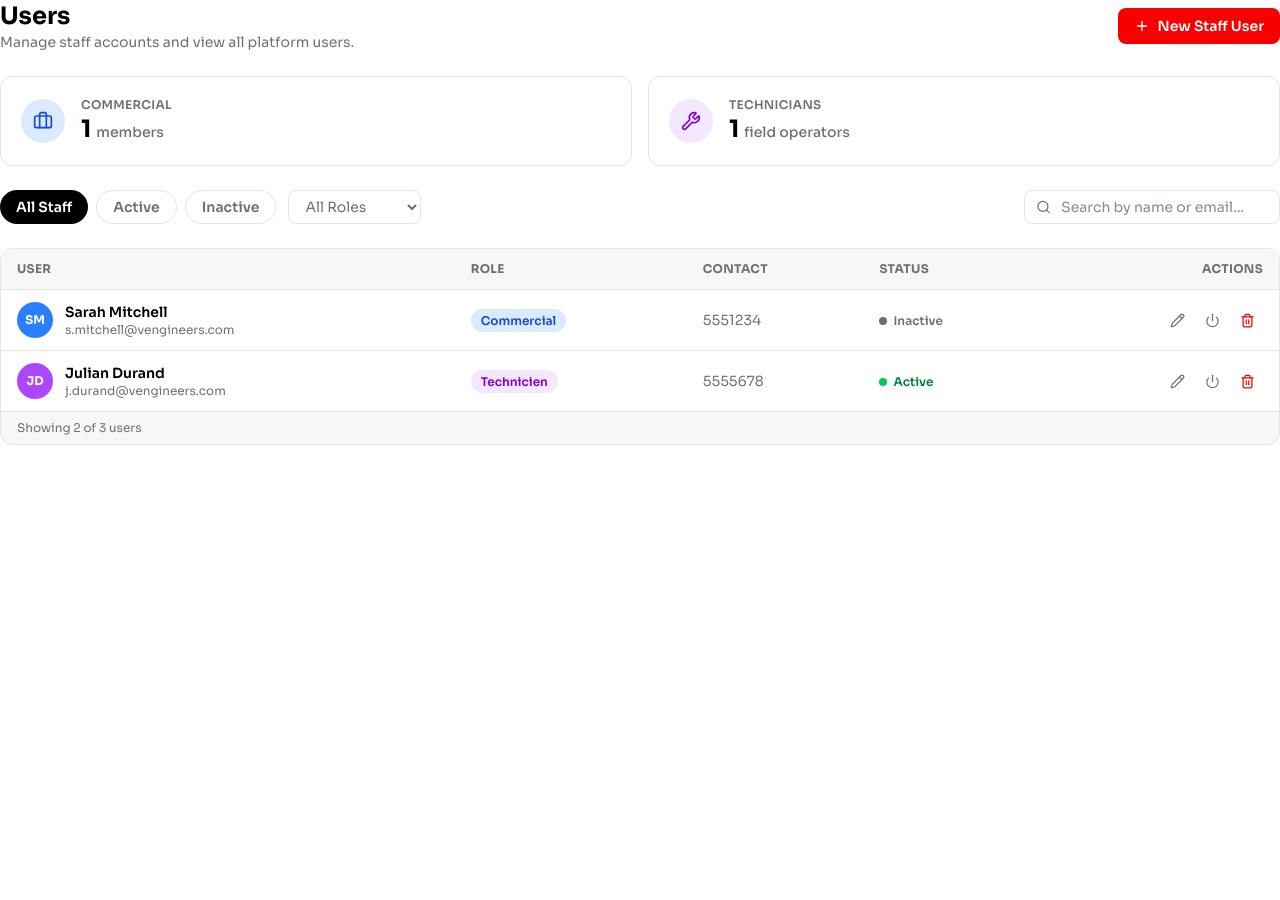
Admin Users › deletes a user after confirming, removes the row, and shows a success toast
The image size is (1280, 900).
Expected: the text "Sarah Mitchell" is shown, [65, 303, 168, 321]
Click the button titled "Delete" in the row of "SM" at coordinates (1248, 320), box [1232, 304, 1263, 336]
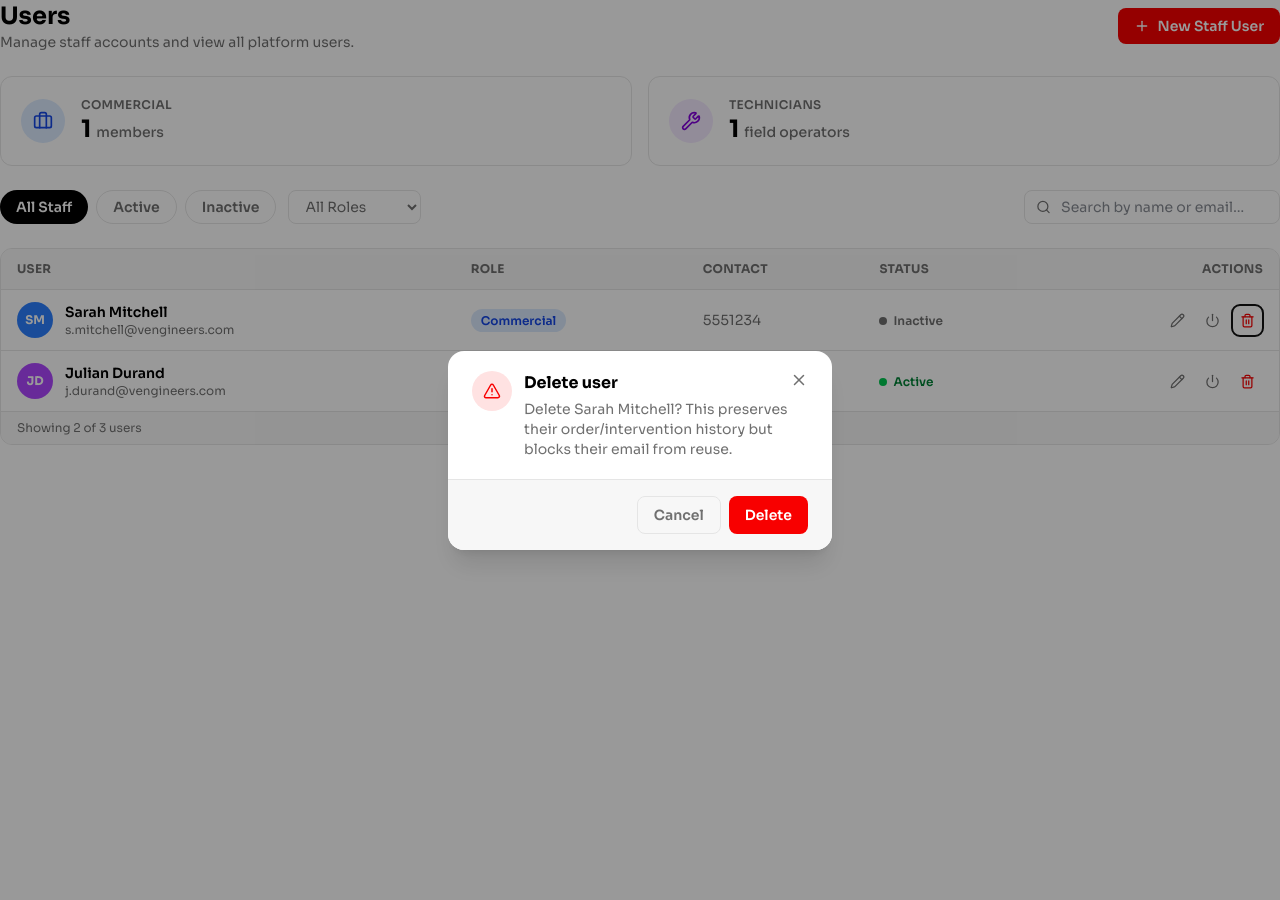
Click the button "Delete" at coordinates (768, 514), box [729, 496, 808, 534]
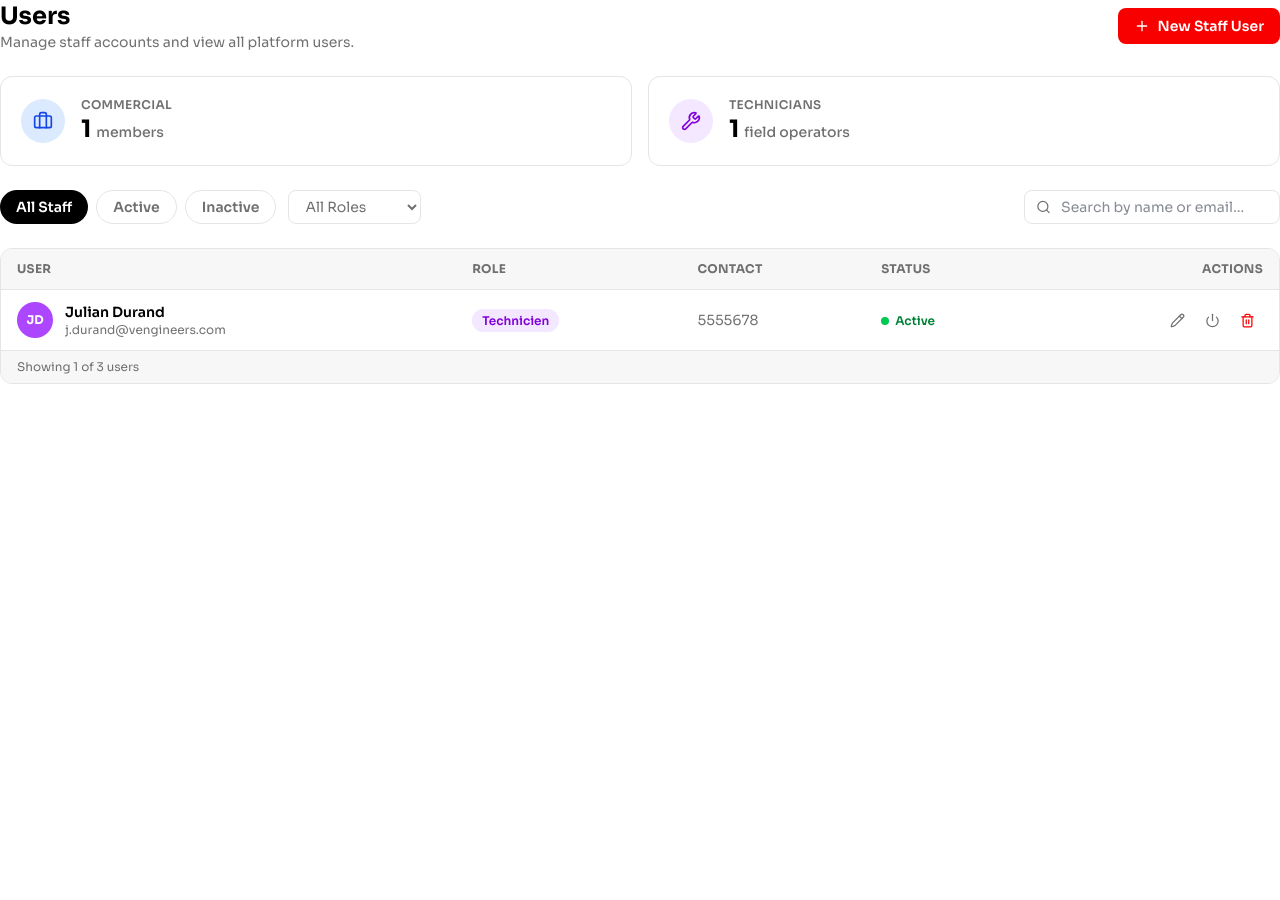
Result: the text "Sarah Mitchell" is gone
